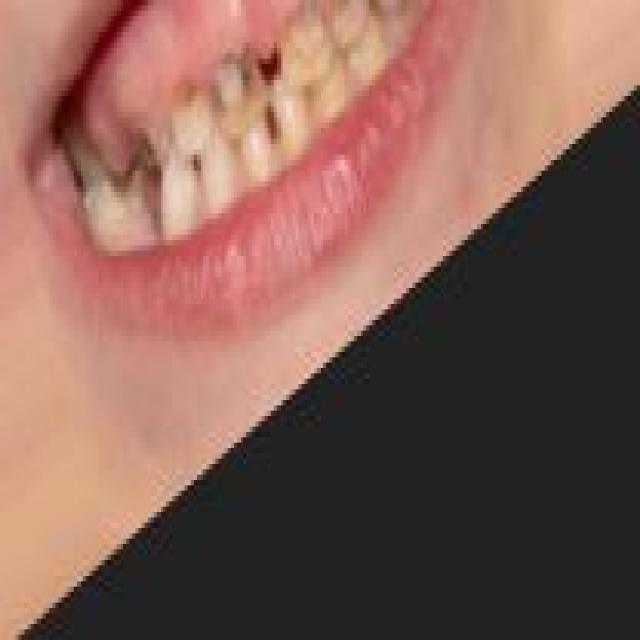caries: (210, 40, 268, 144), (278, 0, 338, 94), (162, 60, 214, 147), (132, 119, 174, 187)
